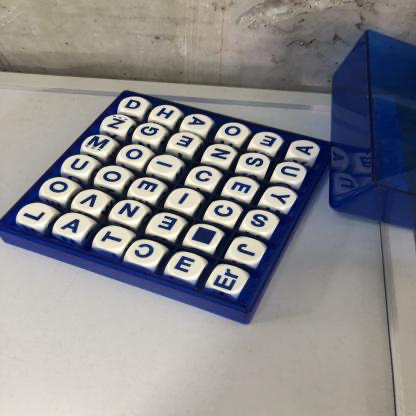a: (59, 215, 91, 240), (291, 142, 318, 160), (185, 115, 211, 133)
c: (130, 242, 164, 267), (189, 167, 219, 189), (209, 202, 239, 223)
d: (122, 97, 147, 116)
e: (172, 255, 206, 279), (153, 215, 184, 237), (226, 178, 256, 200), (171, 133, 199, 153), (135, 179, 162, 198), (256, 134, 280, 153)
er: (211, 268, 247, 292)
g: (135, 123, 163, 143)
h: (154, 107, 179, 124)
i: (170, 189, 200, 211), (151, 157, 181, 178)
j: (229, 239, 264, 263)
l: (21, 206, 52, 228)
m: (85, 136, 113, 156)
n: (115, 203, 147, 223), (206, 145, 235, 165)
o: (120, 144, 148, 165), (46, 180, 75, 200), (101, 167, 128, 187), (220, 124, 246, 143)
s: (245, 212, 276, 234), (239, 154, 270, 175)
t: (97, 228, 131, 252)
u: (277, 164, 305, 184), (67, 158, 93, 176)
v: (79, 193, 106, 212)
wild: (191, 227, 221, 250)
y: (264, 190, 296, 211)
z: (106, 116, 130, 134)
